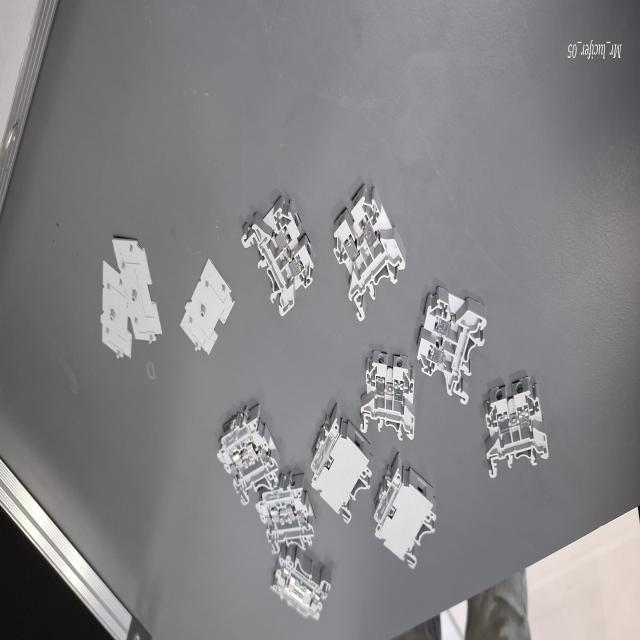Pass: (328, 160, 405, 332), (414, 254, 484, 436), (232, 201, 316, 333), (473, 366, 550, 494), (357, 336, 416, 456)
